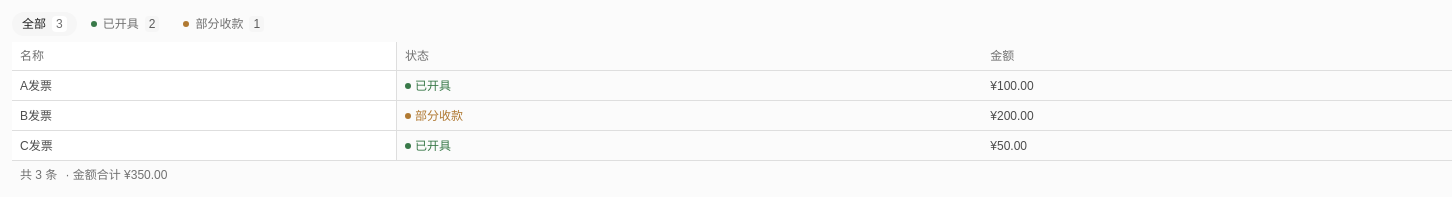
Test: 状态筛选芯片（A2，真实过滤） › 点击筛选 → 未匹配行直接不渲染（真实过滤），芯片 aria-pressed 翻转
Click the button "部分收款 1".
click(224, 24)  # box [173,12,274,36]
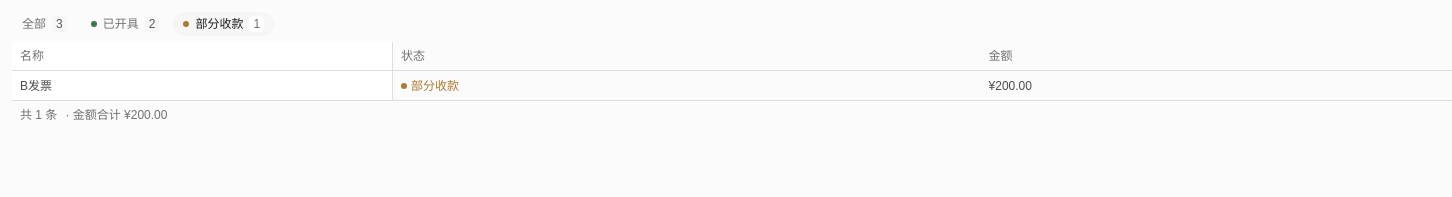
Expected: the row "B发票 部分收款 ¥200.00" is shown, [12,71,1451,101]
Expected: the text "A发票" is gone
Expected: the text "C发票" is gone
